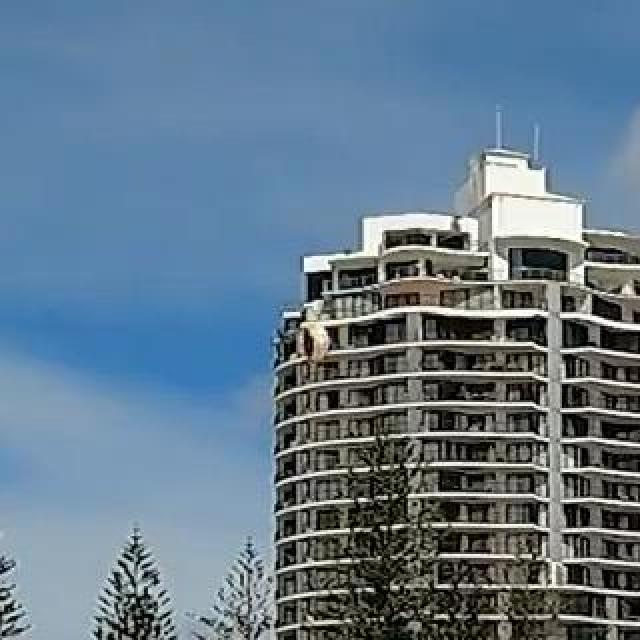volleyball: (294, 323, 332, 361)
